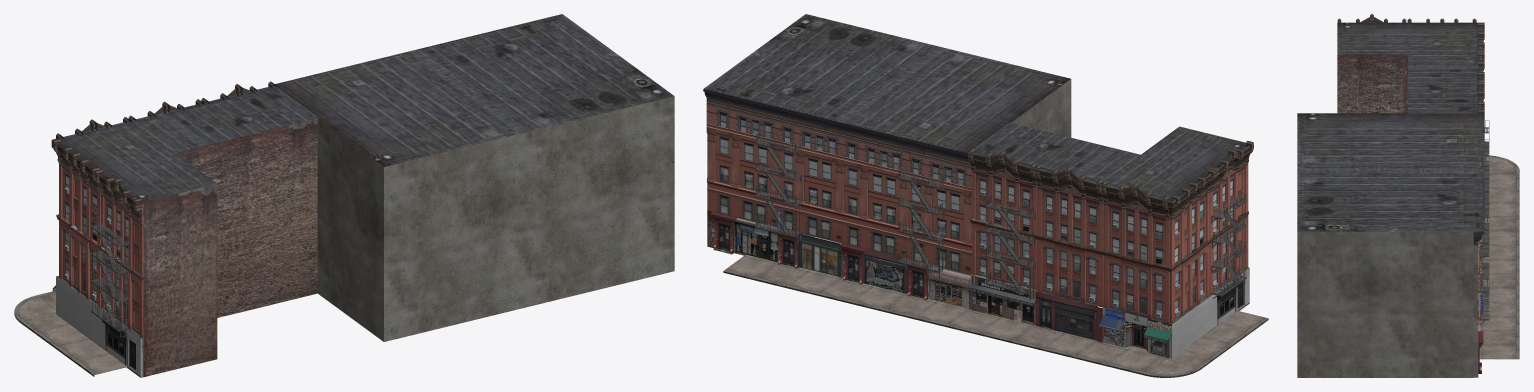
File: citybuilding.gltf
3 views of the same model, side by side, from view 1: azimuth 30°, elevation 25°; view 2: azimuth 150°, elevation 25°; view 3: azimuth 270°, elevation 25° (orthographic). The views are drawn at different scales.
Parts seen in each view (by area): view 1: mainerz.004_Concrete_0_8_18, mainerz.003_Misc_0_6_15, mainerz.002_Red Build 2_0_4_12, mainerz_Red building 1_0_0_6, Sidewalks.001_15_20, mainerz.001_Metal_0_2_9; view 2: mainerz.002_Red Build 2_0_4_12, mainerz_Red building 1_0_0_6, Sidewalks.001_15_20, mainerz.001_Metal_0_2_9, mainerz.003_Misc_0_6_15, mainerz.004_Concrete_0_8_18; view 3: mainerz.004_Concrete_0_8_18, mainerz.002_Red Build 2_0_4_12, mainerz_Red building 1_0_0_6, Sidewalks.001_15_20, mainerz.003_Misc_0_6_15, mainerz.001_Metal_0_2_9.
Part boxes in pixels (<box>): mainerz.004_Concrete_0_8_18: <box>317,96,674,341</box>; mainerz.003_Misc_0_6_15: <box>56,118,318,377</box>; mainerz.002_Red Build 2_0_4_12: <box>273,14,673,166</box>; mainerz_Red building 1_0_0_6: <box>51,81,318,338</box>; Sidewalks.001_15_20: <box>14,291,127,376</box>; mainerz.001_Metal_0_2_9: <box>91,215,130,338</box>; mainerz.002_Red Build 2_0_4_12: <box>703,14,1070,308</box>; mainerz_Red building 1_0_0_6: <box>968,122,1253,358</box>; Sidewalks.001_15_20: <box>723,234,1268,377</box>; mainerz.001_Metal_0_2_9: <box>755,131,1246,300</box>; mainerz.003_Misc_0_6_15: <box>1010,188,1249,358</box>; mainerz.004_Concrete_0_8_18: <box>707,79,1071,281</box>; mainerz.004_Concrete_0_8_18: <box>1297,231,1478,377</box>; mainerz.002_Red Build 2_0_4_12: <box>1297,113,1484,373</box>; mainerz_Red building 1_0_0_6: <box>1337,14,1486,160</box>; Sidewalks.001_15_20: <box>1479,155,1519,359</box>; mainerz.003_Misc_0_6_15: <box>1337,55,1407,113</box>; mainerz.001_Metal_0_2_9: <box>1478,120,1489,324</box>.
Size of the model in its own units: 67.07 by 21.77 by 28.46.
6 materials, 6 textured.
